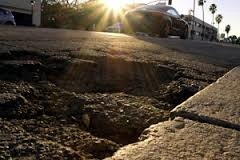pothole: (0, 41, 210, 87), (0, 87, 168, 122), (0, 122, 148, 160)
